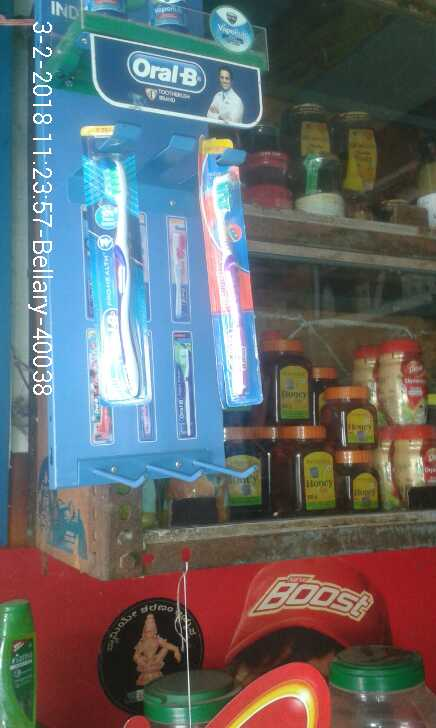oralb: (74, 127, 163, 408), (194, 147, 268, 408)
